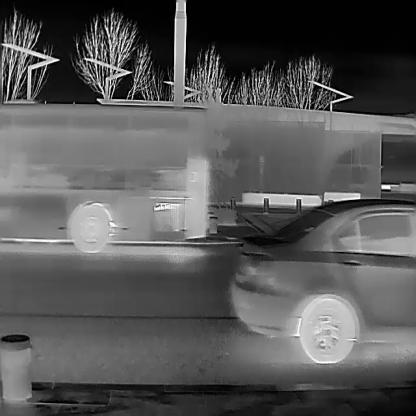bus: (1, 98, 208, 254)
car: (229, 198, 415, 362)
